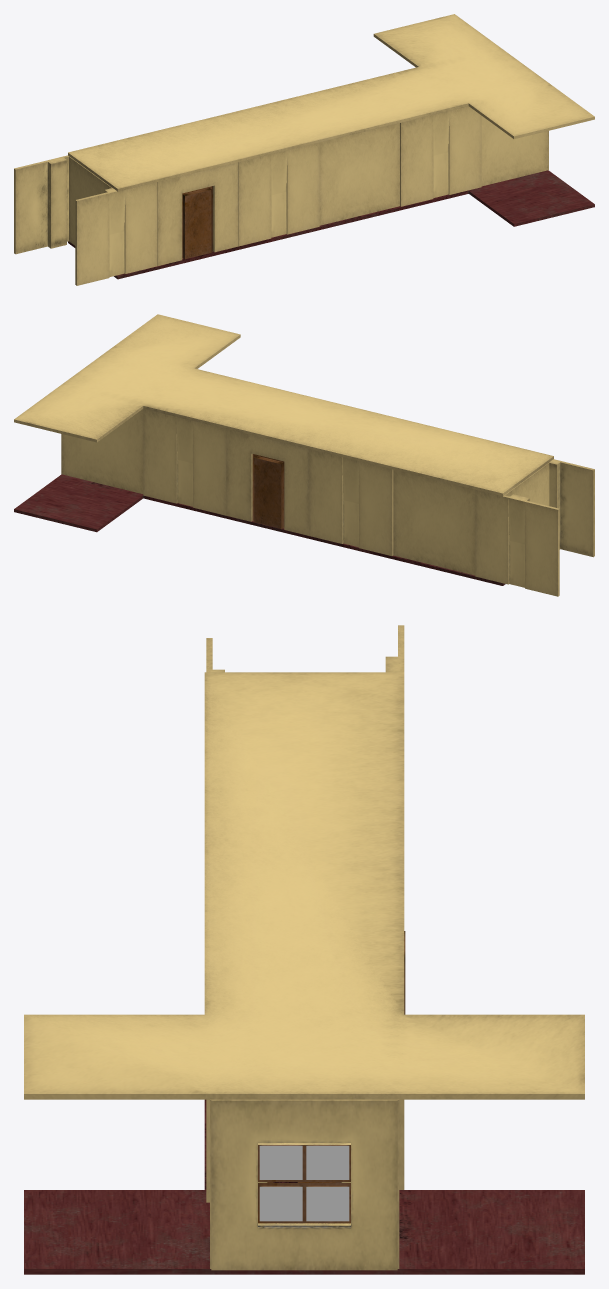
The model's file is teste.fbx.
The picture shows the model from 3 angles, top to bottom: view 1: azimuth 30°, elevation 25°; view 2: azimuth 150°, elevation 25°; view 3: azimuth 270°, elevation 25°; orthographic projection. The views are drawn at different scales.
Parts seen in each view (by area): view 1: Plane.001, Cube.014, Cube.005, Cube.011, Cube.013, Cube.009, Plane, Cube.006, Cube.008, Cube.007; view 2: Plane.001, Cube.006, Cube, Cube.003, Cube.002, Cube.001, Plane, Cube.010, Cube.014, Cube.007; view 3: Plane.001, Plane, Cube.012.
Part boxes in pixels (bbox=[...]): Plane.001: bbox=[68, 14, 594, 191]; Cube.014: bbox=[75, 182, 157, 285]; Cube.005: bbox=[238, 142, 319, 246]; Cube.011: bbox=[157, 162, 238, 265]; Cube.013: bbox=[400, 106, 481, 206]; Cube.009: bbox=[319, 123, 399, 225]; Plane: bbox=[68, 170, 594, 279]; Cube.006: bbox=[14, 155, 68, 254]; Cube.008: bbox=[481, 116, 548, 186]; Cube.007: bbox=[69, 156, 111, 245]; Plane.001: bbox=[14, 314, 553, 496]; Cube.006: bbox=[475, 489, 559, 596]; Cube: bbox=[309, 449, 393, 555]; Cube.003: bbox=[143, 408, 226, 515]; Cube.002: bbox=[226, 429, 309, 535]; Cube.001: bbox=[393, 469, 475, 575]; Plane: bbox=[14, 474, 505, 585]; Cube.010: bbox=[61, 409, 143, 493]; Cube.014: bbox=[549, 459, 594, 557]; Cube.007: bbox=[505, 463, 549, 505]; Plane.001: bbox=[24, 672, 584, 1099]; Plane: bbox=[24, 1099, 584, 1274]; Cube.012: bbox=[211, 1099, 397, 1270].
Bounding box in the file's own units: 1810 × 320 × 900.
